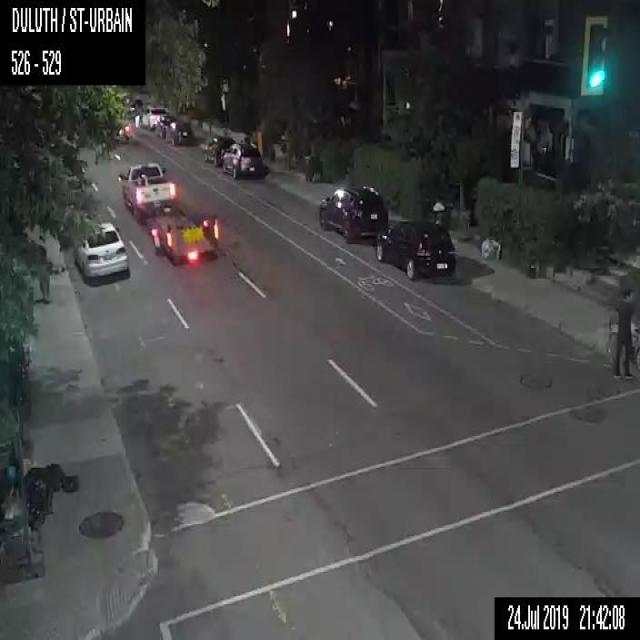construction: (255, 129, 262, 160)
pedestrian: (611, 287, 633, 381)
vehicle: (118, 159, 225, 265), (375, 219, 456, 280), (317, 186, 389, 243), (70, 216, 130, 284), (222, 141, 263, 179), (203, 135, 236, 166), (166, 118, 190, 146), (142, 104, 168, 129), (157, 114, 177, 138)
